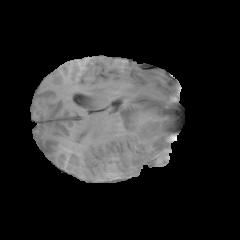glioma: (117, 104, 175, 175)
